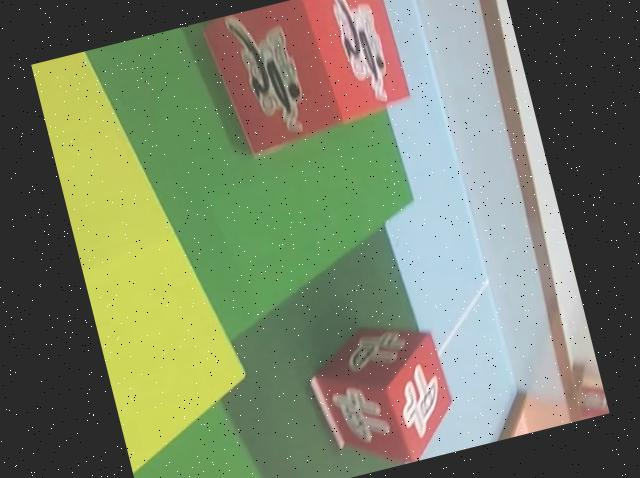R1: (193, 0, 420, 166)
R2 Real: (298, 304, 467, 478)
